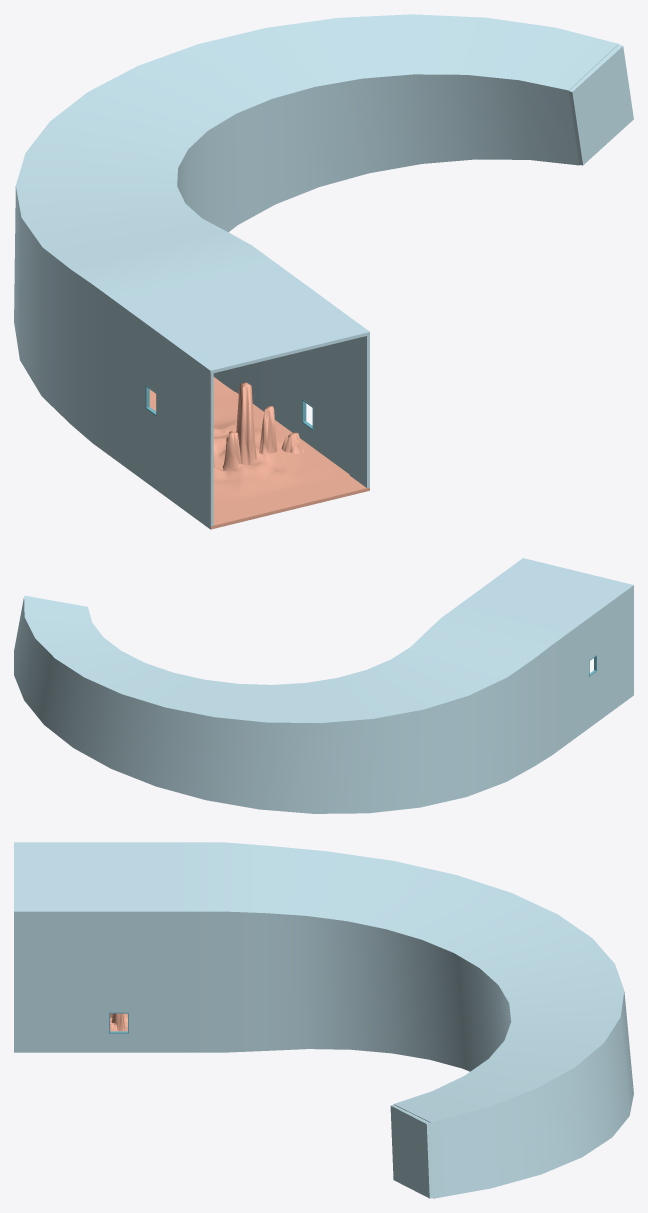
Rendered from 06 coin river_mapping_copy.fbx.
3 views of the same model, one above another, from view 1: azimuth 30°, elevation 25°; view 2: azimuth 150°, elevation 25°; view 3: azimuth 270°, elevation 25° (orthographic). The views are drawn at different scales.
Parts seen in each view (by area): view 1: Cube_5_Null, Ground, Landscape_7; view 2: Cube_5_Null; view 3: Cube_5_Null.
Part boxes in pixels (left/top/right/bottom): Cube_5_Null: left=14, top=14, right=633, bottom=529; Ground: left=213, top=392, right=349, bottom=507; Landscape_7: left=213, top=381, right=303, bottom=471; Cube_5_Null: left=14, top=558, right=633, bottom=813; Cube_5_Null: left=14, top=842, right=633, bottom=1198.
Bounding box in the file's own units: 6429 × 1483 × 5907.
5 materials, 5 textured.
